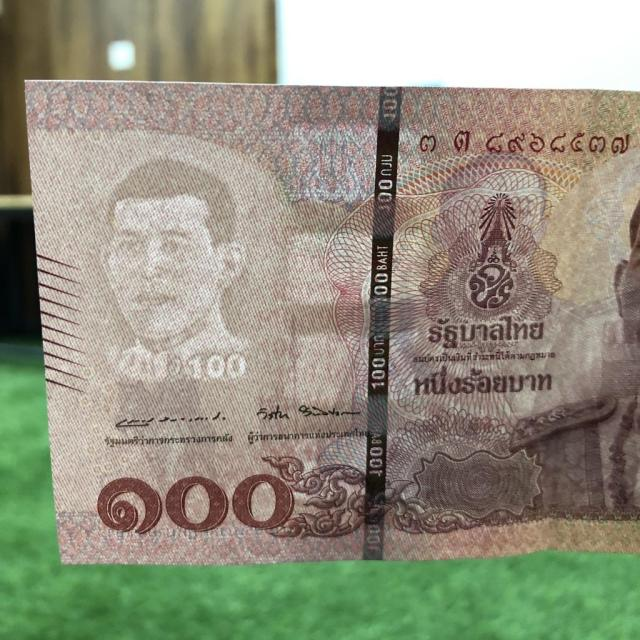THAI100: (26, 81, 639, 564)
